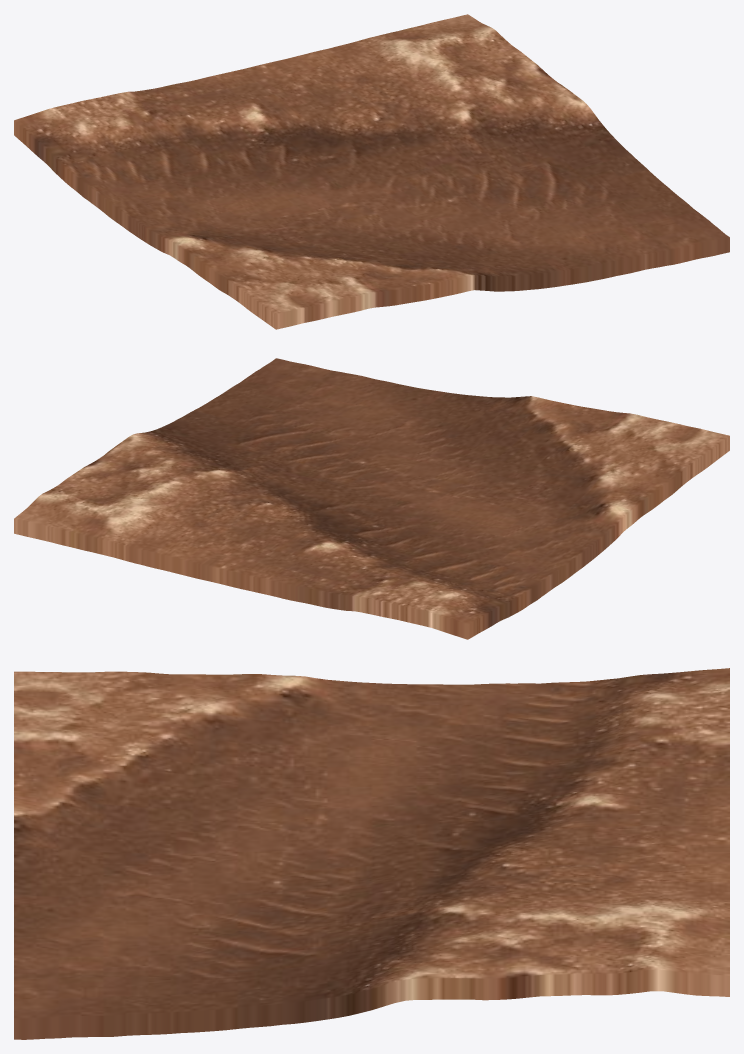
3 renders of one model, top to bottom at view 1: azimuth 30°, elevation 25°; view 2: azimuth 150°, elevation 25°; view 3: azimuth 270°, elevation 25°, orthographic. The views are drawn at different scales.
Parts seen in each view (by area): view 1: L6_27_16; view 2: L6_27_16; view 3: L6_27_16.
Part boxes in pixels (left/top/right/bottom): L6_27_16: left=14, top=14, right=729, bottom=329; L6_27_16: left=14, top=358, right=729, bottom=639; L6_27_16: left=14, top=668, right=729, bottom=1039.
Bounding box in the file's own units: 225 × 25.55 × 225.
1 material, 1 textured.
